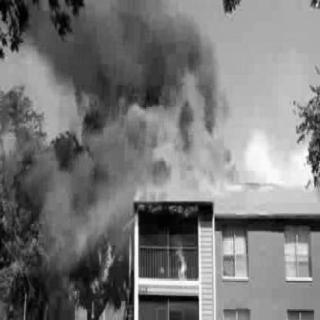Smoke: (48, 142, 122, 250)
